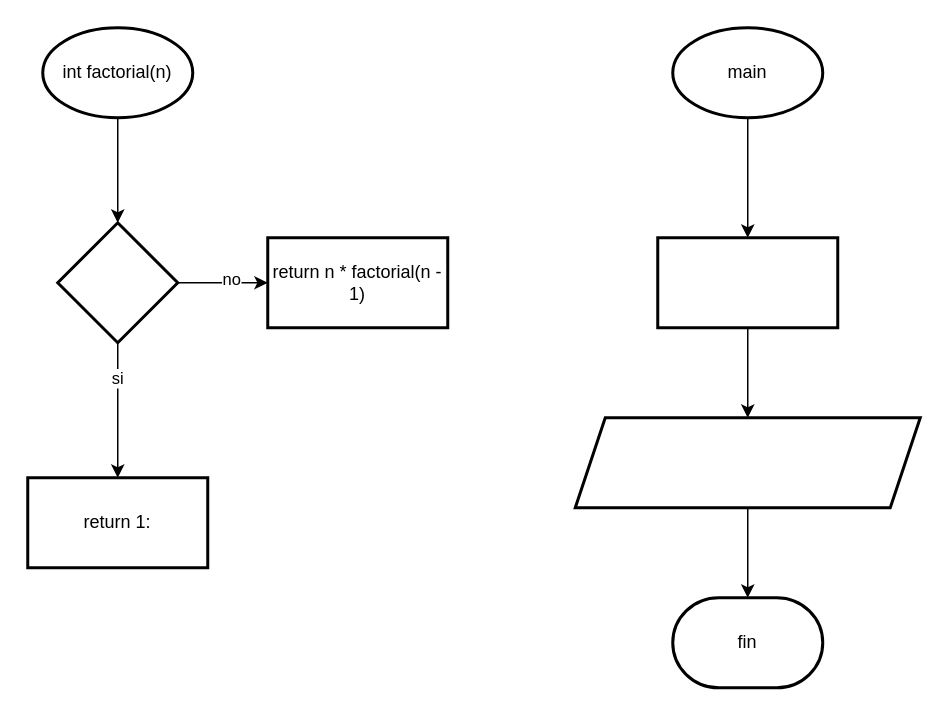
Some shapes in this 947 by 714 pixel diagram are drawn without their labels. The shapes that lost their labels are listed below. From the top down, each one's centre as x and y in pixels, then its label:
At pixel 117 282: "if n <=1".
At pixel 747 282: "int numeroFactorial = n".
At pixel 747 462: "print(factorial(numeroFactorial))".
